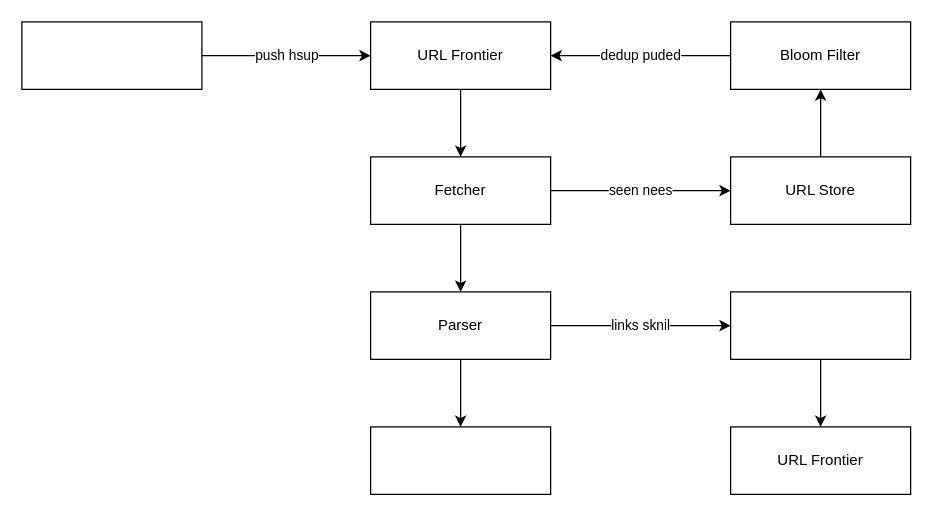
Some shapes in this 933 by 516 pixel diagram are drawn without their labels. The shapes that lost their labels are listed below. From the top down, each one's centre as x and y in pixels, then its label:
the point at 111,55: Seed URLs
the point at 820,325: Extractor
the point at 460,460: Content Store
